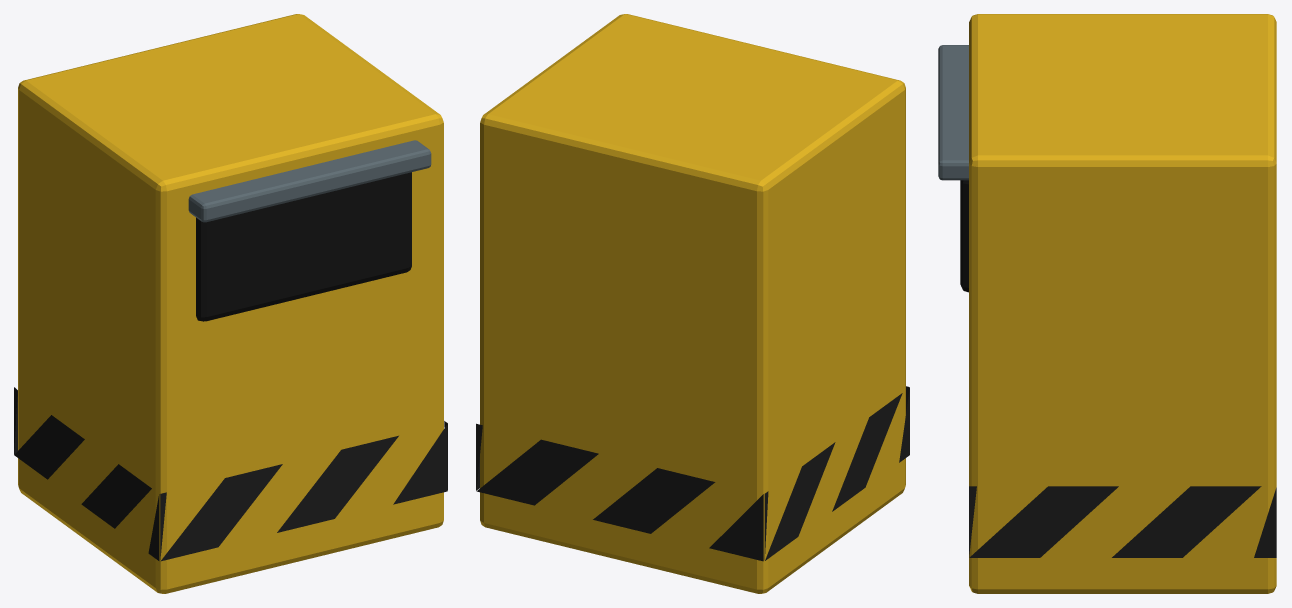
Rendered from bin.glb.
3 views of the same model, side by side, from view 1: azimuth 30°, elevation 25°; view 2: azimuth 150°, elevation 25°; view 3: azimuth 270°, elevation 25° (orthographic). The views are drawn at different scales.
Visible parts, largest first — view 1: body.001, chute, hz_f, lip, hz_l; view 2: body.001, hz_b, hz_l; view 3: body.001, hz_r, lip, chute.
Boxes of the visible parts, left/top/right/bottom form: body.001: left=18, top=14, right=443, bottom=593; chute: left=196, top=172, right=411, bottom=321; hz_f: left=160, top=424, right=447, bottom=561; lip: left=188, top=140, right=431, bottom=222; hz_l: left=14, top=387, right=159, bottom=560; body.001: left=480, top=14, right=905, bottom=593; hz_b: left=476, top=424, right=763, bottom=561; hz_l: left=764, top=388, right=909, bottom=560; body.001: left=969, top=14, right=1276, bottom=593; hz_r: left=969, top=486, right=1276, bottom=557; lip: left=938, top=45, right=968, bottom=180; chute: left=960, top=180, right=968, bottom=292.
Size of the model in its own units: 0.804 by 1.1 by 0.772.
